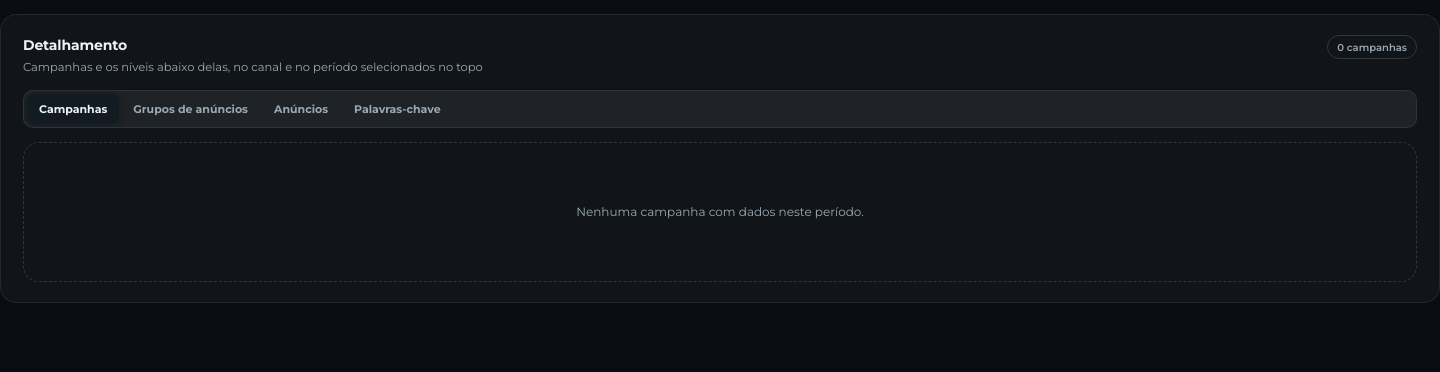
Scenario: miniatura PMax: só em Anúncios › Anúncios mostra miniatura dos recursos PMax
Click the tab "Anúncios". click: (301, 109)
box: x1=262 y1=94 x2=340 y2=124
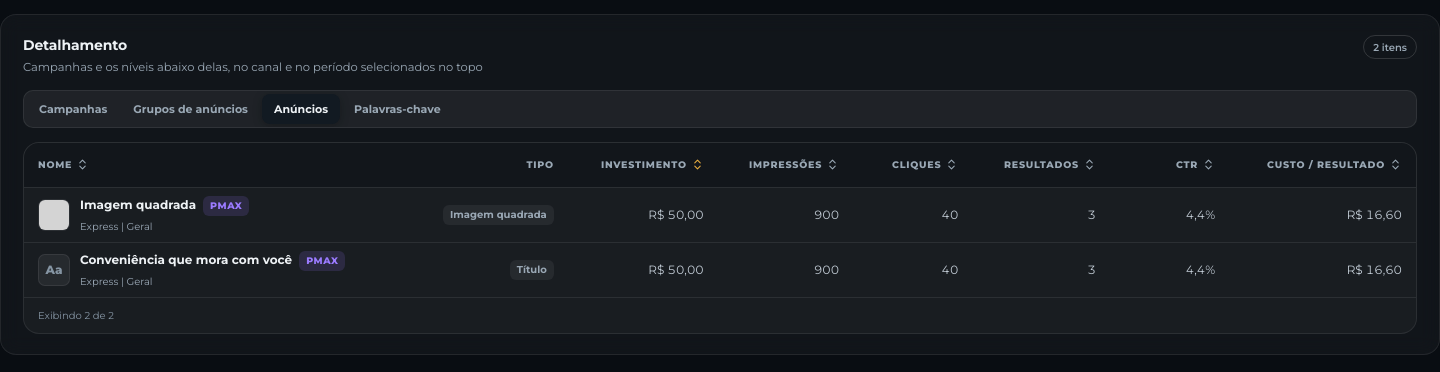
Expected: the row that starts with "Imagem quadrada" is shown, x1=24 y1=187 x2=1416 y2=242
